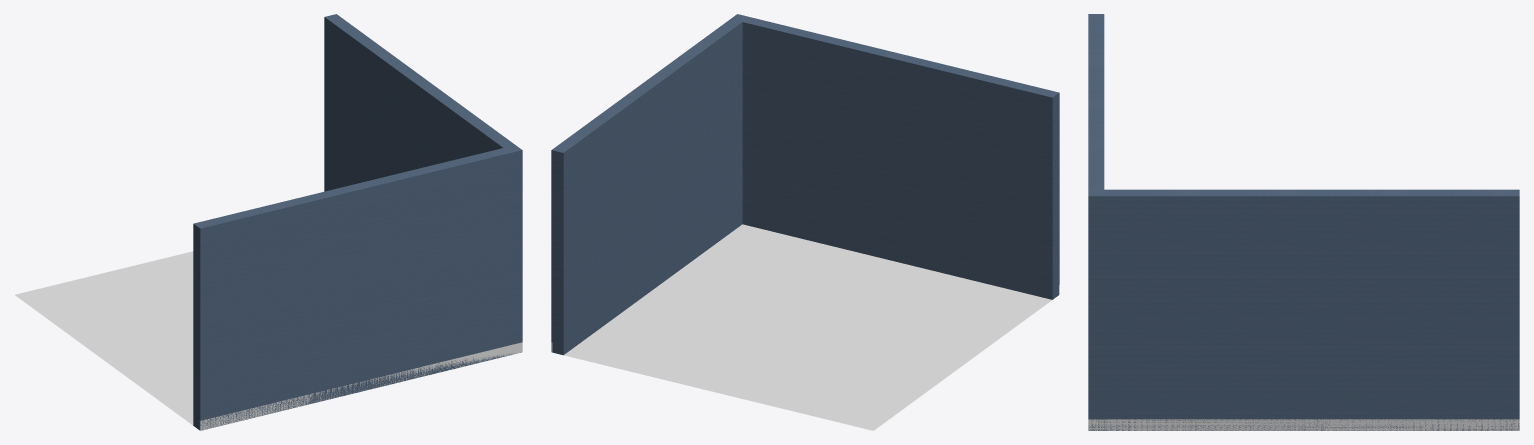
File: coin_mur.gltf
The picture shows the model from 3 angles, left to right: view 1: azimuth 30°, elevation 25°; view 2: azimuth 150°, elevation 25°; view 3: azimuth 270°, elevation 25°; orthographic projection. The views are drawn at different scales.
Visible parts, largest first — view 1: Room, Floor, Baseboard; view 2: Room, Floor; view 3: Room, Baseboard.
Part boxes in pixels (<box>): Room: <box>193,14,522,430</box>; Floor: <box>15,251,193,425</box>; Baseboard: <box>199,342,522,430</box>; Room: <box>551,14,1059,355</box>; Floor: <box>564,224,1051,430</box>; Room: <box>1088,14,1519,430</box>; Baseboard: <box>1088,419,1519,430</box>.
Bounding box in the file's own units: 4 × 2.4 × 4.
1 material, 1 textured.
